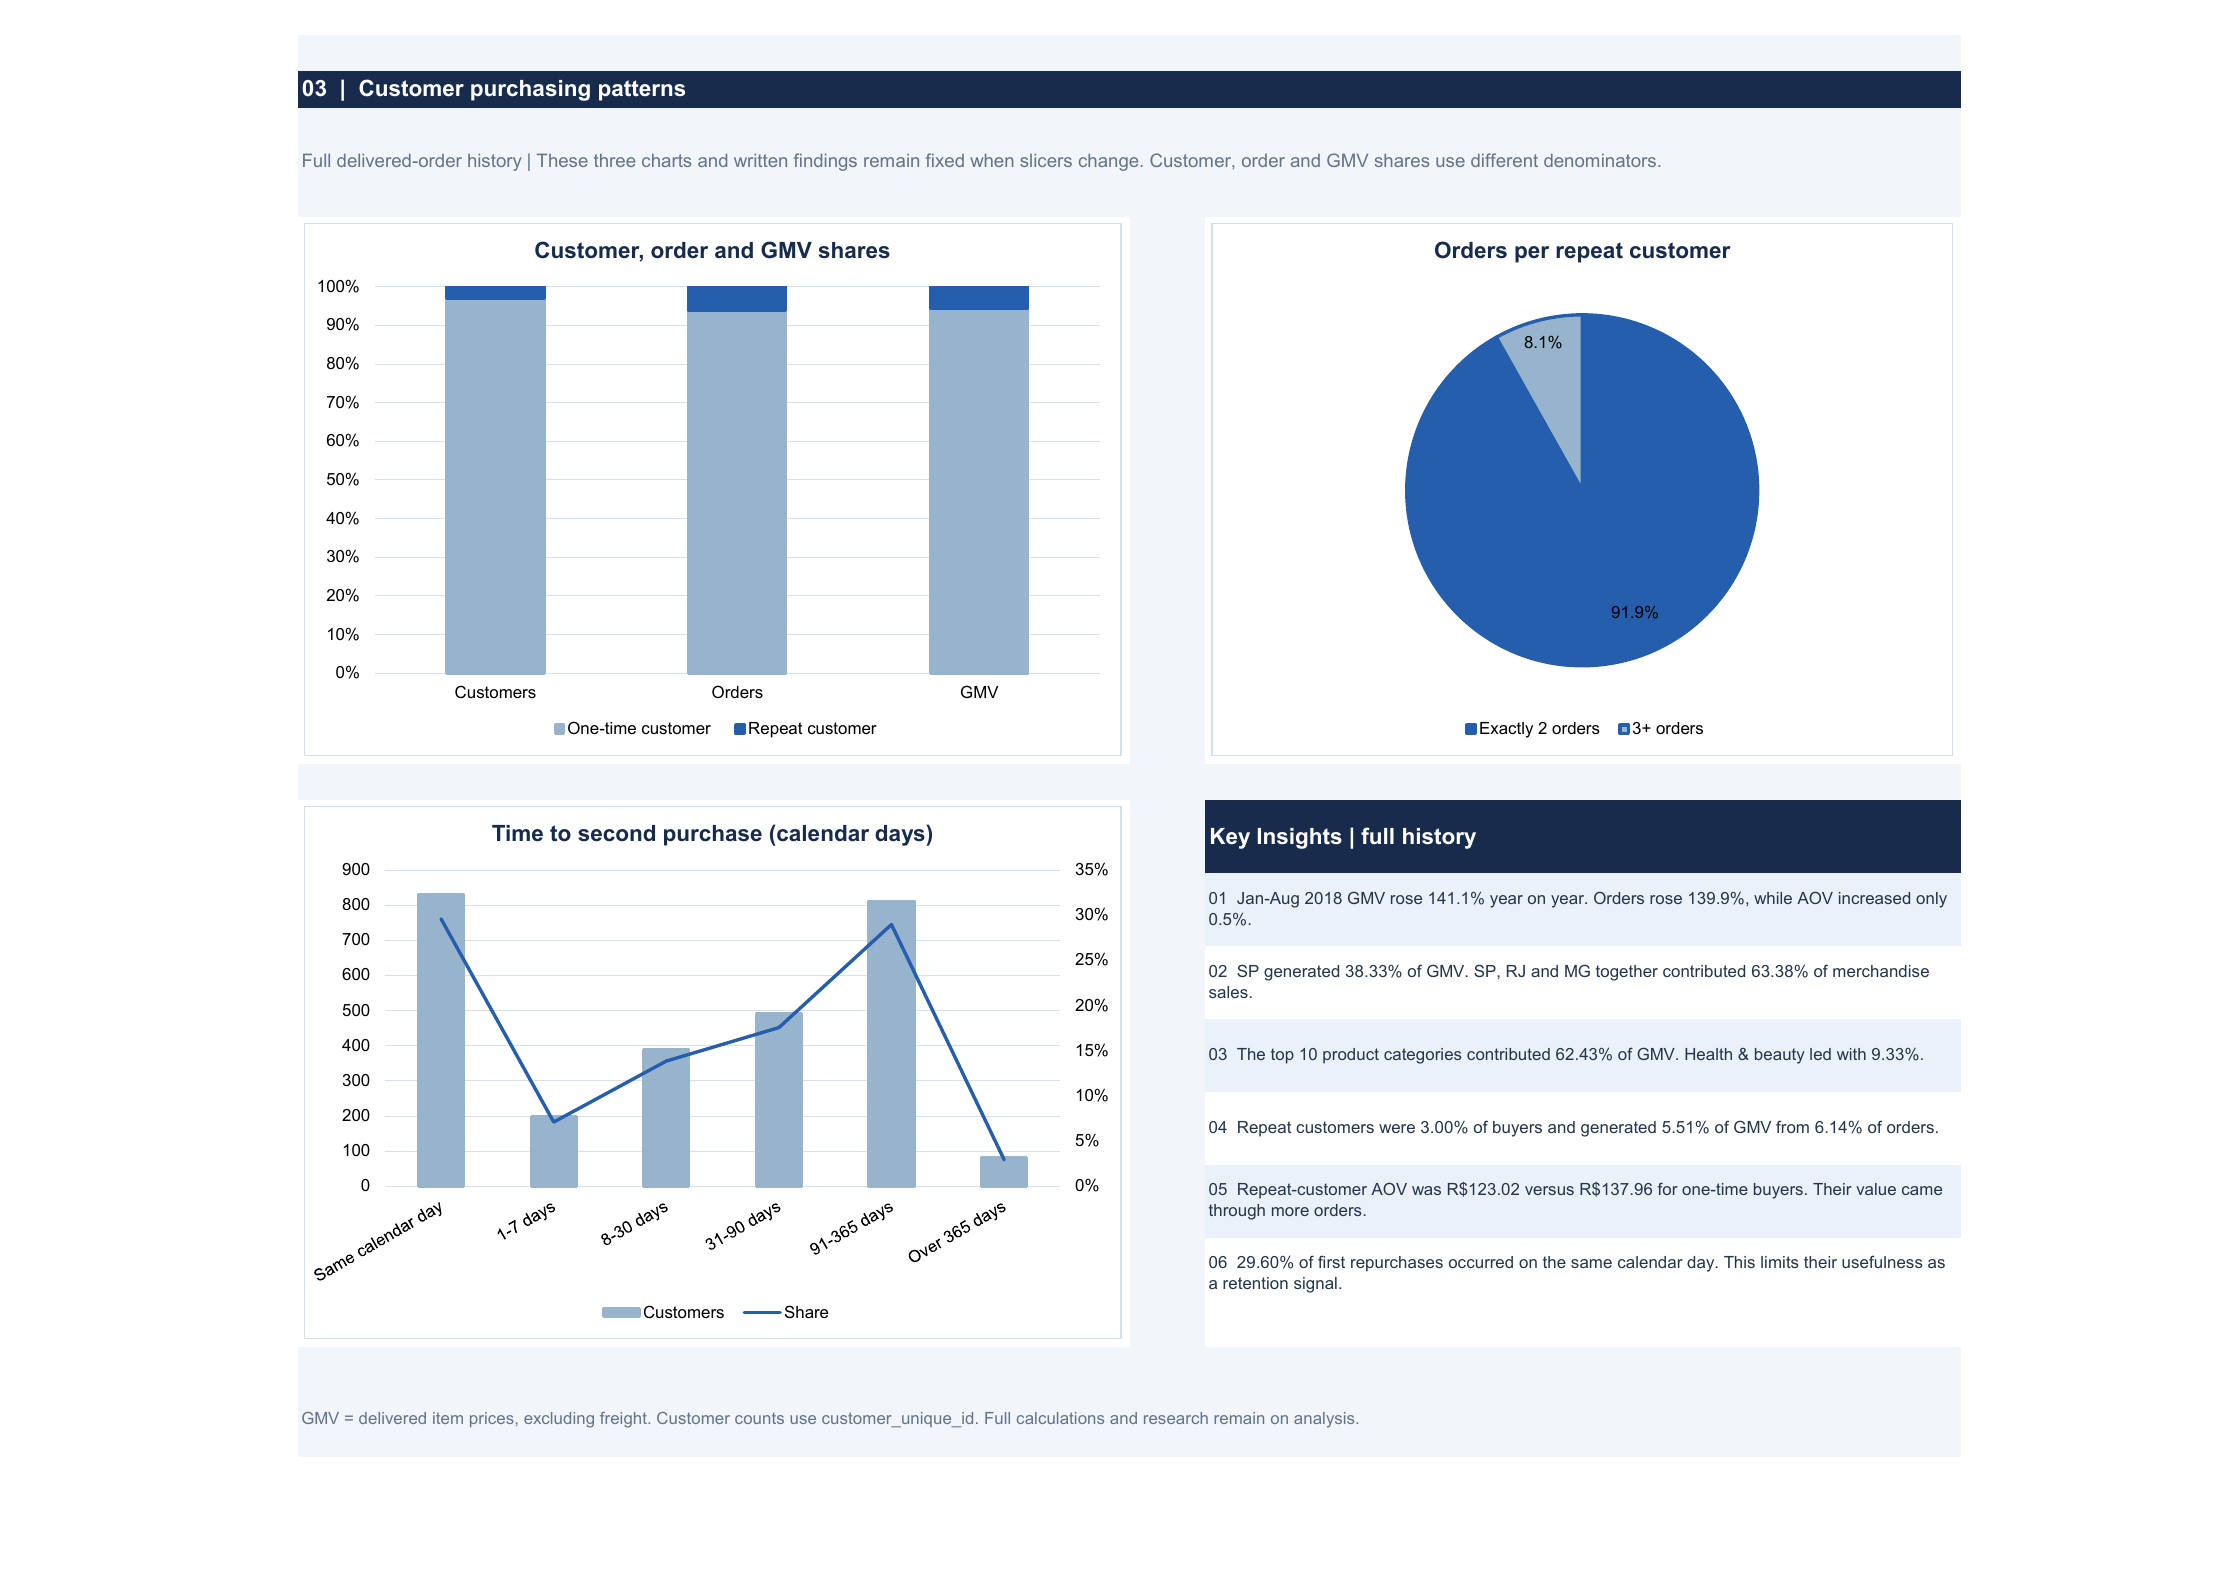

This screenshot's page, from the dashboard's own definition file:
{"tool":"powerbi","page":{"name":"Customer Behaviour","canvas":[1600,1000],"ordinal":1},"visuals":[{"type":"textbox","box":[28,18,1300,42],"z":0},{"type":"textbox","box":[28,50,1500,70],"z":1000},{"type":"textbox","box":[28,105,1500,43],"z":2000},{"type":"card","title":"Purchasing customers","fields":{"Values":["q2_customer_segments.Purchasing customers"]},"box":[28,153,374,105],"z":3000},{"type":"card","title":"Observed repeat customers","fields":{"Values":["q2_customer_segments.Repeat customers"]},"box":[416,153,374,105],"z":4000},{"type":"card","title":"Spend per repeat customer (BRL)","fields":{"Values":["q2_customer_segments.Repeat customer spend"]},"box":[804,153,374,105],"z":5000},{"type":"card","title":"Sales from highest-spending fifth","fields":{"Values":["q2_quintiles.Top fifth sales share"]},"box":[1192,153,374,105],"z":6000},{"type":"clusteredColumnChart","title":"Repeat customers: people, orders and sales","fields":{"Category":["RepeatContribution.metric"],"Y":["RepeatContribution.Repeat segment share"]},"box":[28,278,764,300],"z":7000},{"type":"clusteredBarChart","title":"Observed spend per customer (BRL)","fields":{"Category":["q2_customer_segments.customer_type"],"Y":["q2_customer_segments.Spend per customer"]},"box":[812,278,760,300],"z":8000},{"type":"lineClusteredColumnComboChart","title":"Sales by spending fifth + cumulative share","fields":{"Category":["q2_quintiles.quintile"],"Y":["q2_quintiles.Sales share"],"Y2":["q2_quintiles.Cumulative share"]},"box":[28,598,764,326],"z":9000},{"type":"clusteredBarChart","title":"First repeat purchase · share of repeat customers","fields":{"Category":["q2_repurchase.interval_bucket"],"Y":["q2_repurchase.Repeat customer share"]},"box":[812,598,760,326],"z":10000},{"type":"textbox","box":[28,943,1544,42],"z":11000}]}

Visuals, with their boxes on the page's 1600x1000 design canvas (x1, y1, x2, y2). These are canvas units, not pixel positions in the 2233x1579 screenshot, which may show the page scaled, cropped or inside an application window:
textbox: {"x1": 28, "y1": 18, "x2": 1328, "y2": 60}
textbox: {"x1": 28, "y1": 50, "x2": 1528, "y2": 120}
textbox: {"x1": 28, "y1": 105, "x2": 1528, "y2": 148}
"Purchasing customers" card: {"x1": 28, "y1": 153, "x2": 402, "y2": 258}
"Observed repeat customers" card: {"x1": 416, "y1": 153, "x2": 790, "y2": 258}
"Spend per repeat customer (BRL)" card: {"x1": 804, "y1": 153, "x2": 1178, "y2": 258}
"Sales from highest-spending fifth" card: {"x1": 1192, "y1": 153, "x2": 1566, "y2": 258}
"Repeat customers: people, orders and sales" clusteredColumnChart: {"x1": 28, "y1": 278, "x2": 792, "y2": 578}
"Observed spend per customer (BRL)" clusteredBarChart: {"x1": 812, "y1": 278, "x2": 1572, "y2": 578}
"Sales by spending fifth + cumulative share" lineClusteredColumnComboChart: {"x1": 28, "y1": 598, "x2": 792, "y2": 924}
"First repeat purchase · share of repeat customers" clusteredBarChart: {"x1": 812, "y1": 598, "x2": 1572, "y2": 924}
textbox: {"x1": 28, "y1": 943, "x2": 1572, "y2": 985}
